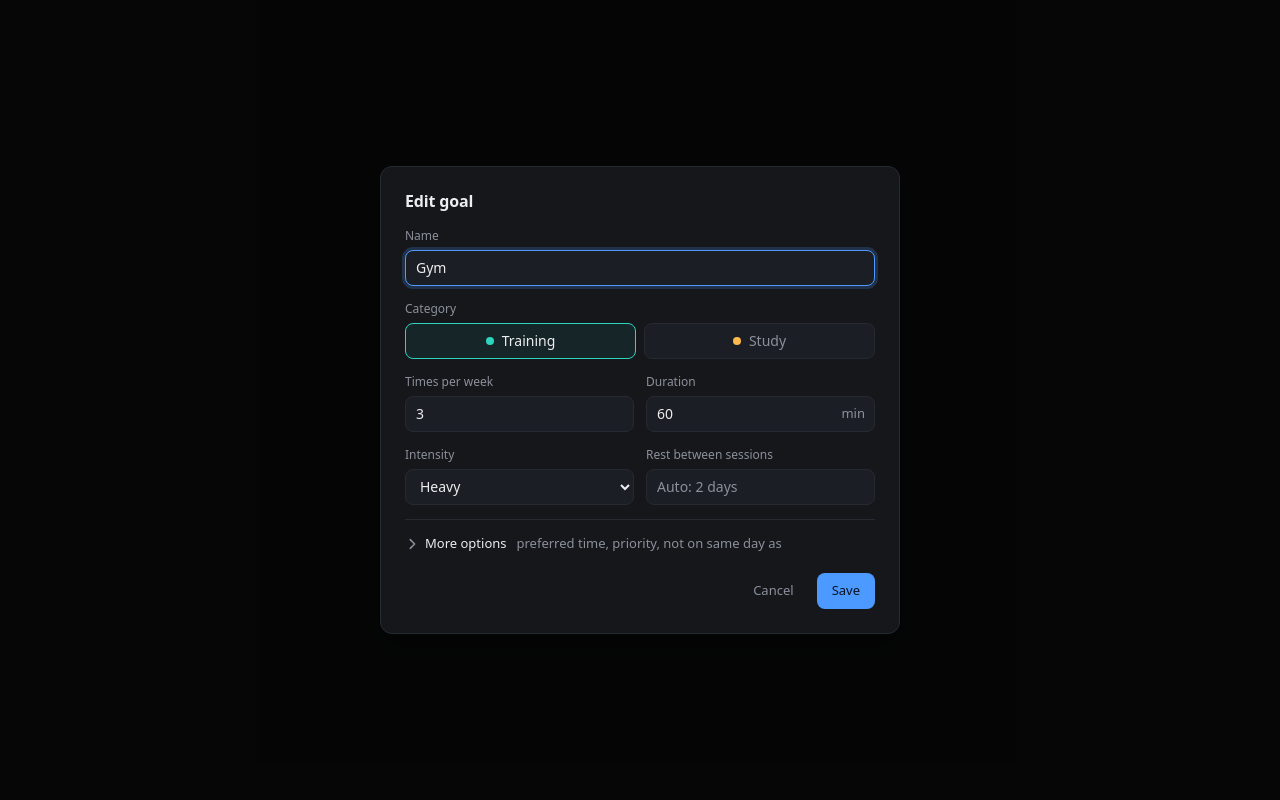
Scenario: GoalDialog "Not on the same day as" › is disabled with a hint when there are no other goals
The image size is (1280, 800).
Click the button "More options preferred time, priority, not on same day as": (640, 544) 405,532 -> 875,555
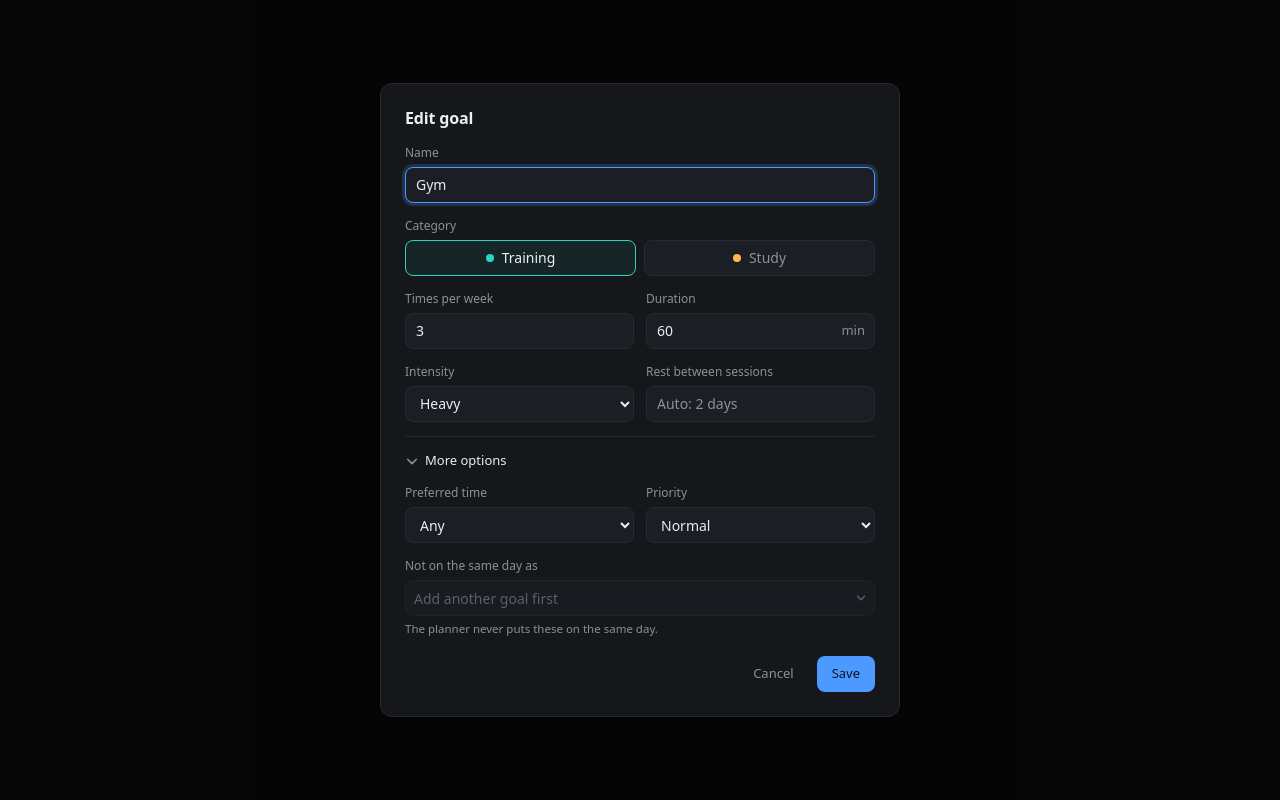
Expected: the text "Add another goal first" is shown, 414,588 -> 558,609
Expected: the button named "Not on the same day as" is disabled, 414,585 -> 868,611
